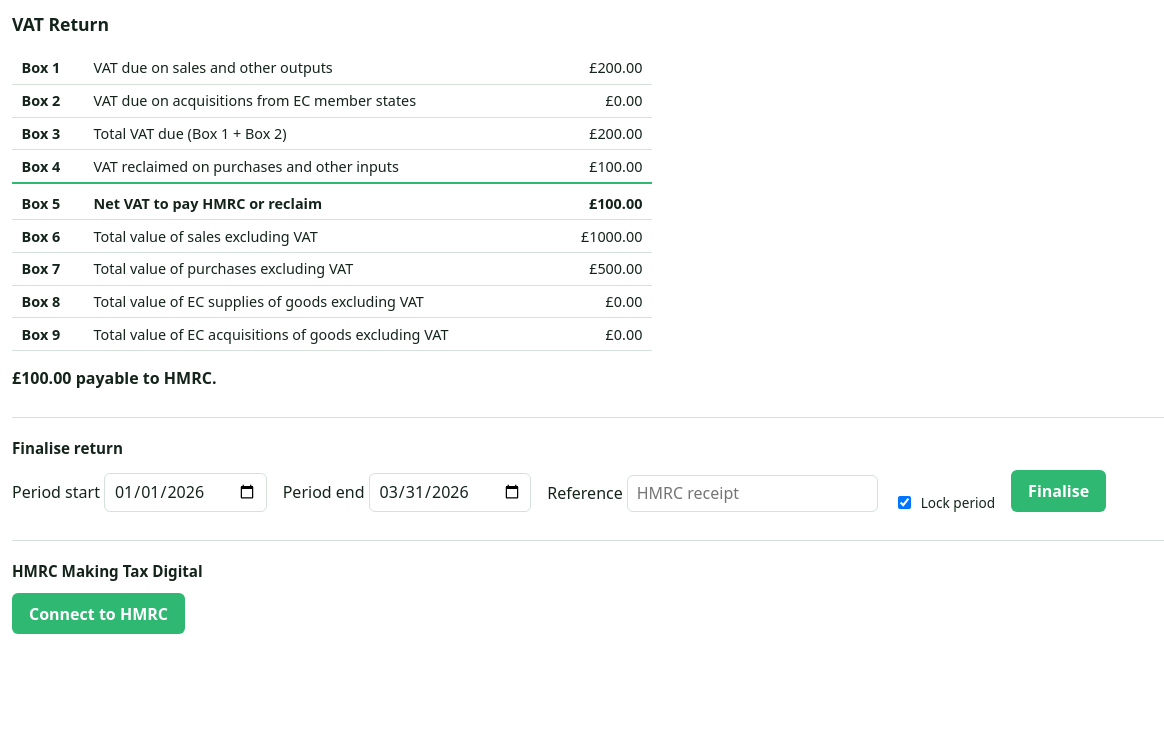
VatReturnScreen › finalises the return with a reference and lock
Expected: the heading "Finalise return" is shown, x1=12 y1=438 x2=123 y2=458
In the field with placeholder "HMRC receipt": point(752, 493) x1=627 y1=475 x2=878 y2=512, type "HMRC-9"
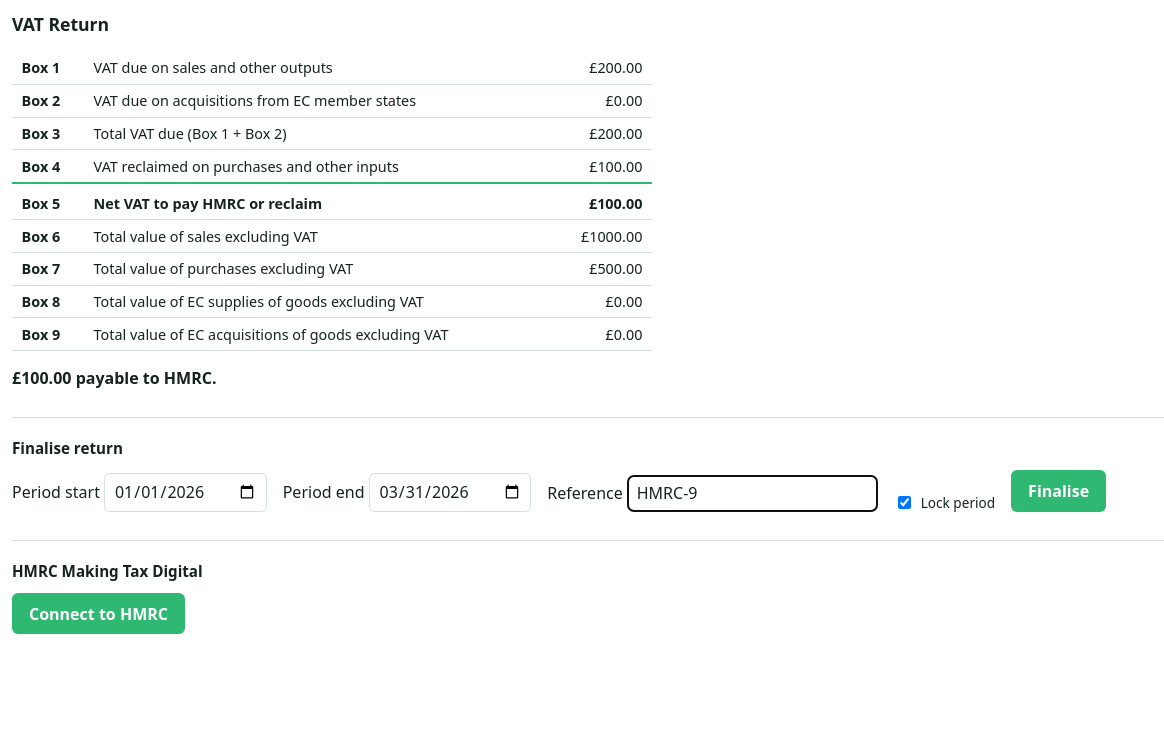
Click the button "Finalise": point(1059, 491) x1=1011 y1=470 x2=1106 y2=512
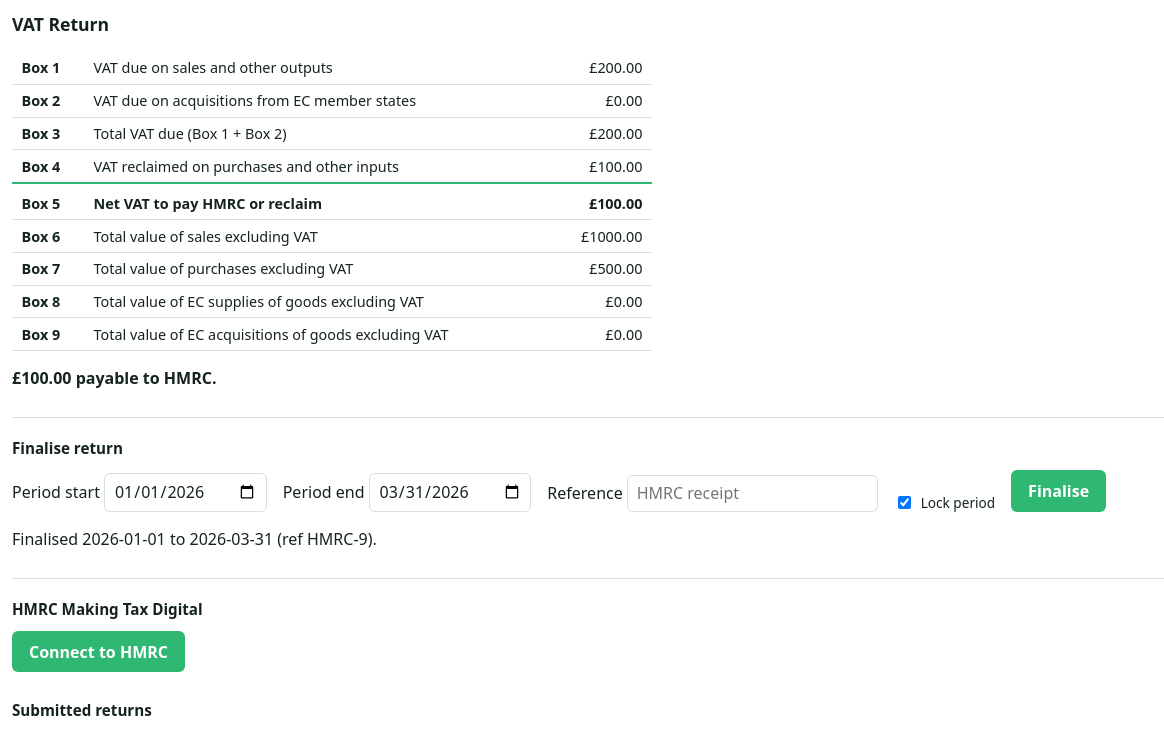
Expected: the heading "Submitted returns" is shown, x1=12 y1=700 x2=152 y2=720
